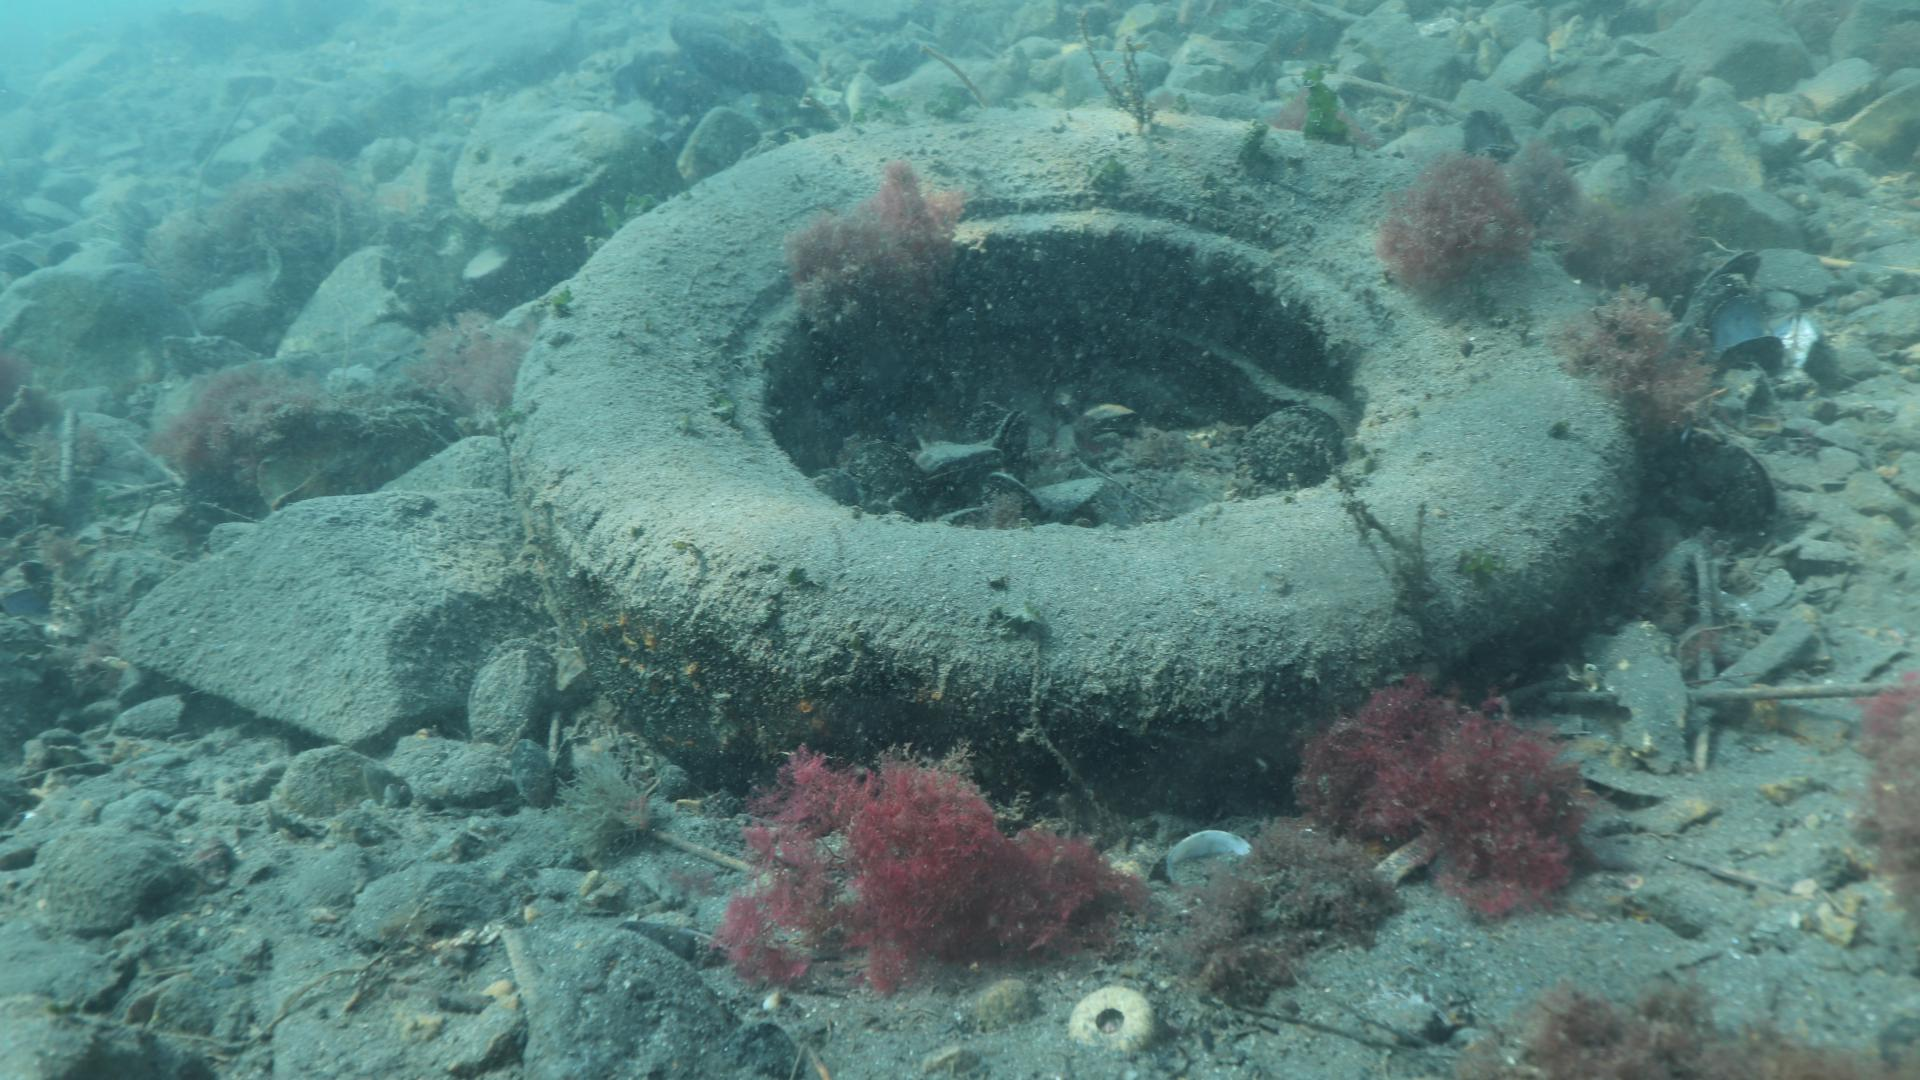tire: (512, 107, 1634, 808)
